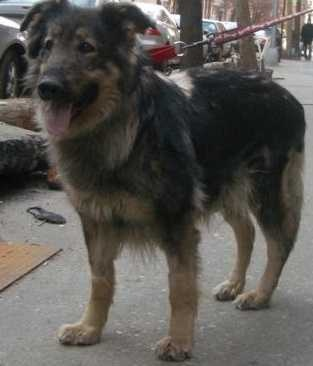Dog: (171, 66, 306, 308)
